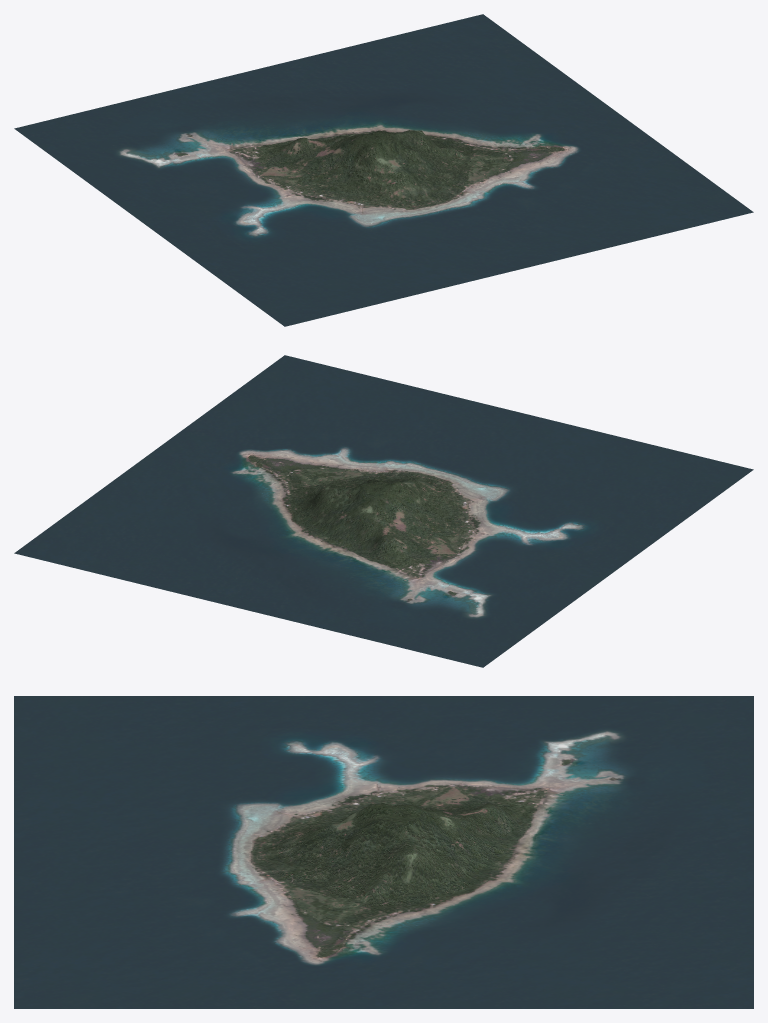
File: SOU_TERRAIN_C.FBX
3 views of the same model, one above another, from view 1: azimuth 30°, elevation 25°; view 2: azimuth 150°, elevation 25°; view 3: azimuth 270°, elevation 25° (orthographic). The views are drawn at different scales.
Visible parts, largest first — view 1: SOU_TER_C01; view 2: SOU_TER_C01; view 3: SOU_TER_C01.
Boxes of the visible parts, box(x1,y1,x2,y2) form: SOU_TER_C01: box(14, 14, 753, 326); SOU_TER_C01: box(14, 355, 753, 667); SOU_TER_C01: box(14, 696, 753, 1008).
Bounding box in the file's own units: 50000 × 3020 × 50000.
2 materials, 2 textured.
